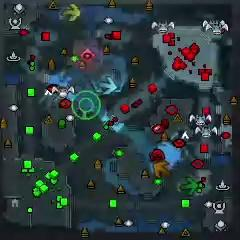x2: (63, 3, 80, 21)
x3: (98, 77, 117, 95)
x4: (180, 176, 197, 195)
x5: (153, 160, 170, 177)
